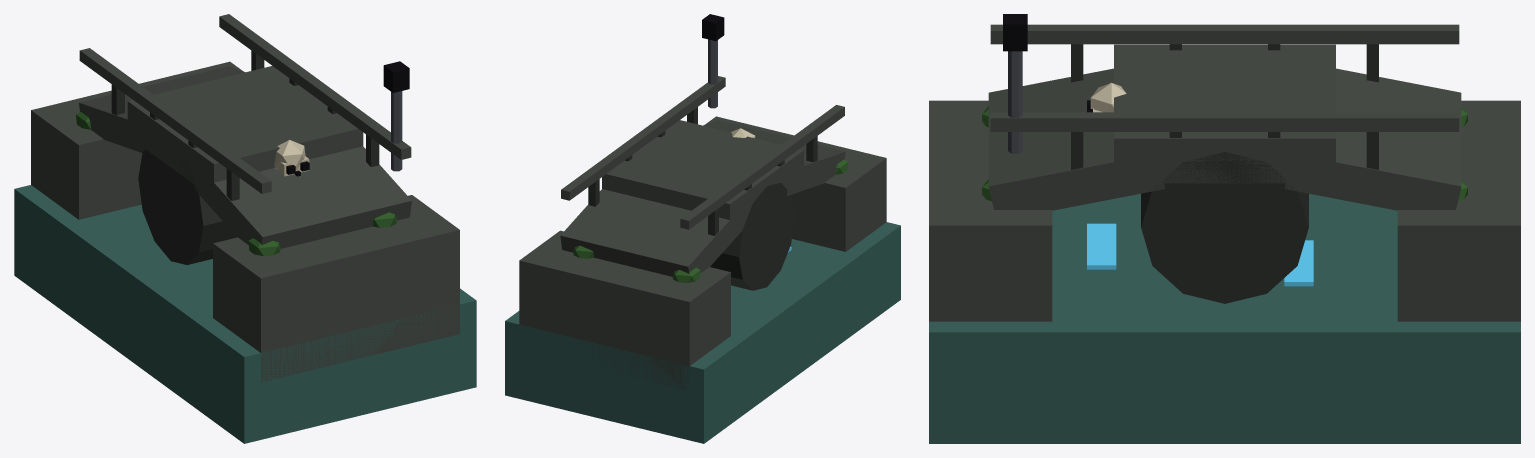
The model's file is canal_bridge.obj.
3 renders of one model, left to right at view 1: azimuth 30°, elevation 25°; view 2: azimuth 150°, elevation 25°; view 3: azimuth 270°, elevation 25°, orthographic. The views are drawn at different scales.
Parts seen in each view (by area): view 1: canal_bridge; view 2: canal_bridge; view 3: canal_bridge.
Boxes of the visible parts, bbox=[...] form: canal_bridge: bbox=[14, 14, 476, 443]; canal_bridge: bbox=[505, 14, 900, 443]; canal_bridge: bbox=[929, 14, 1520, 443].
Size of the model in its own units: 1.4 by 1.77 by 2.4.
